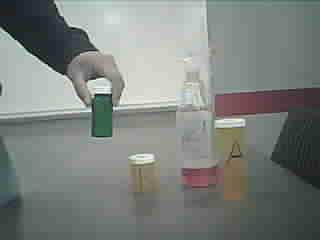Bottle A: (215, 115, 256, 205)
Bottle B: (125, 153, 162, 202)
Bottle C: (75, 82, 130, 140)
hazard: (171, 41, 218, 195)
